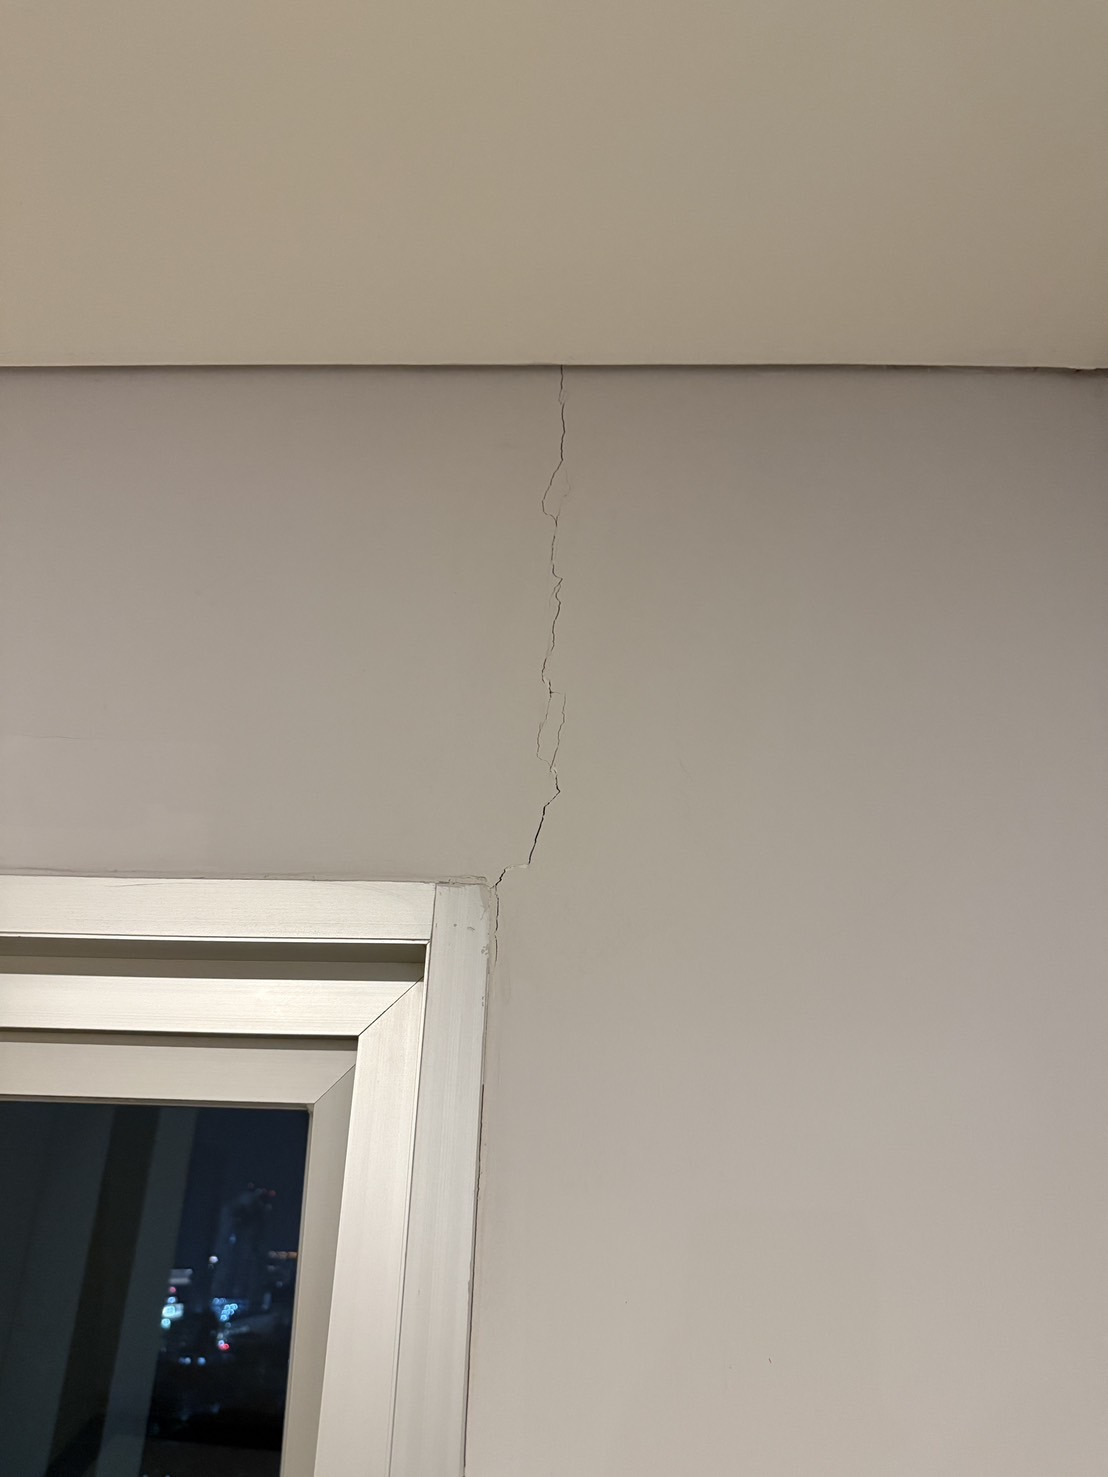Low: (448, 358, 661, 935)
